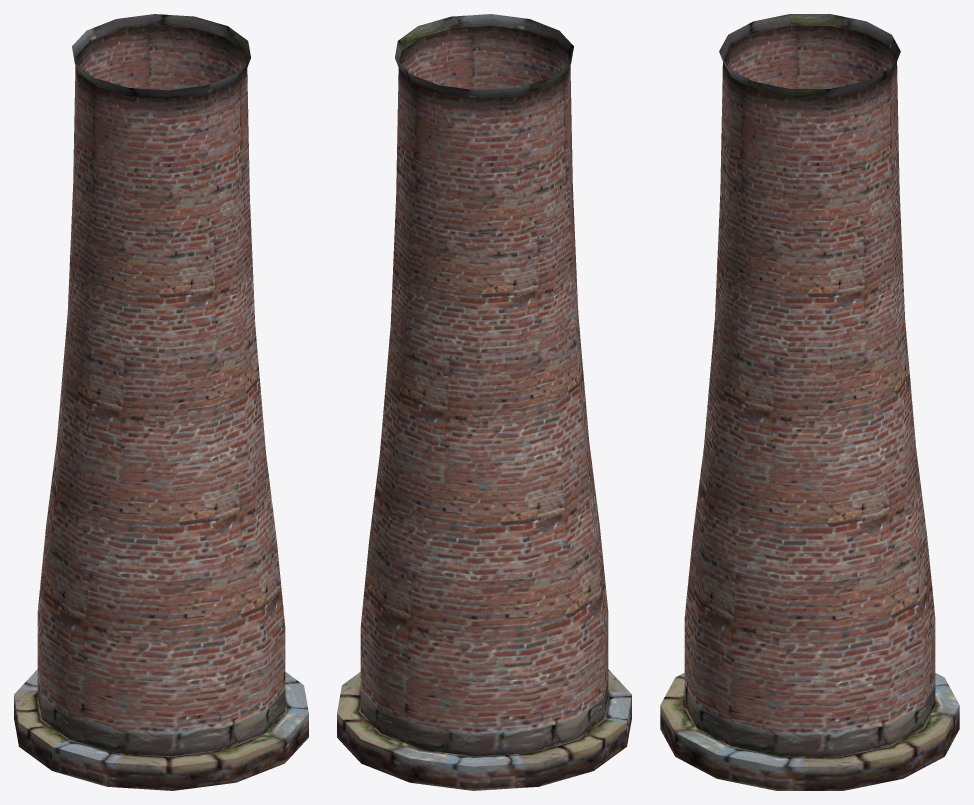
Rendered from Tower1.fbx.
3 views of the same model, side by side, from view 1: azimuth 30°, elevation 25°; view 2: azimuth 150°, elevation 25°; view 3: azimuth 270°, elevation 25° (orthographic).
Visible parts, largest first — view 1: Cooling_tower; view 2: Cooling_tower; view 3: Cooling_tower.
Part boxes in pixels (x1=…): Cooling_tower: x1=14, y1=14, x2=308, y2=790; Cooling_tower: x1=337, y1=14, x2=631, y2=790; Cooling_tower: x1=660, y1=14, x2=959, y2=790.
Bounding box in the file's own units: 4.4 × 11.29 × 4.52.
